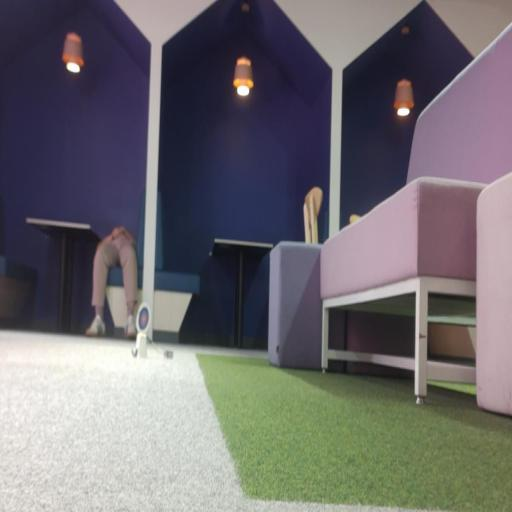target: (136, 302, 151, 334)
